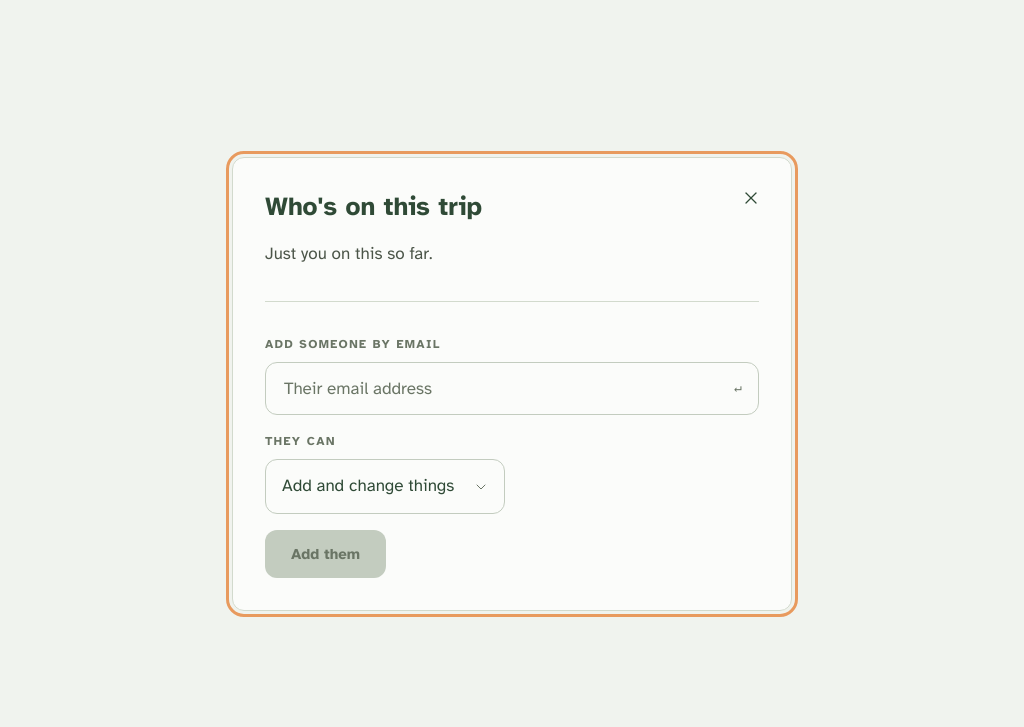
Test: SharePanel › says exactly the same thing whether the address matched someone or nobody
This screenshot has width=1024, height=727.
Expected: the text "Just you on this so far." is shown, [265,243,432,264]
Type "sarah@wend.app" into the field labelled "Add someone by email" at (502, 388), box [282,377,722,400]
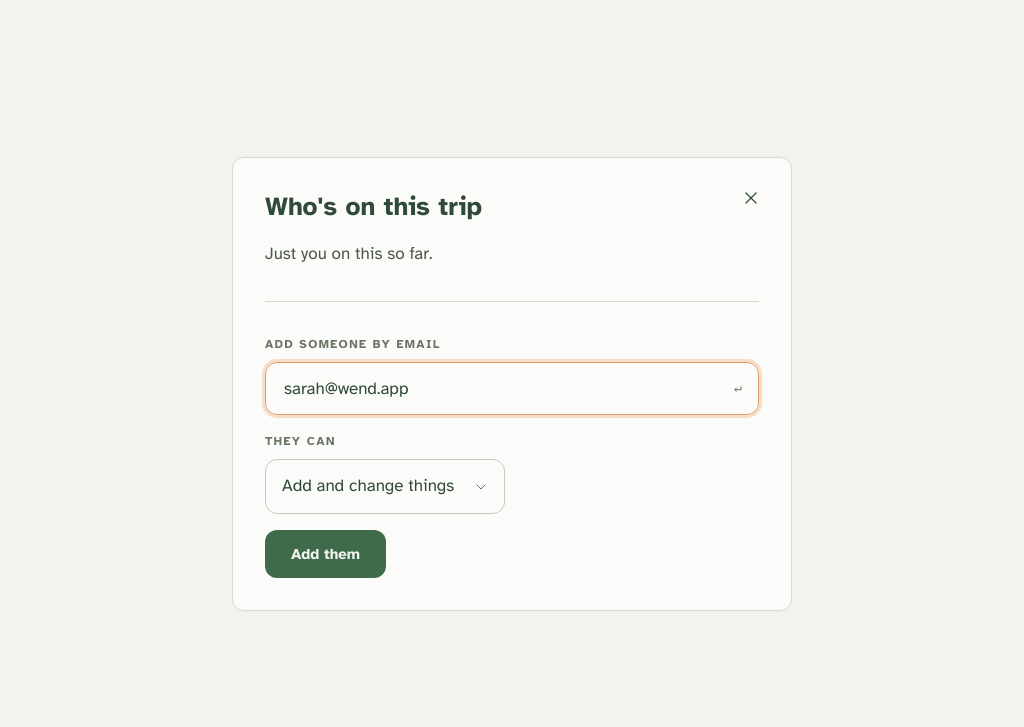
Click the button "Add them" at (326, 554), box [265,530,386,578]
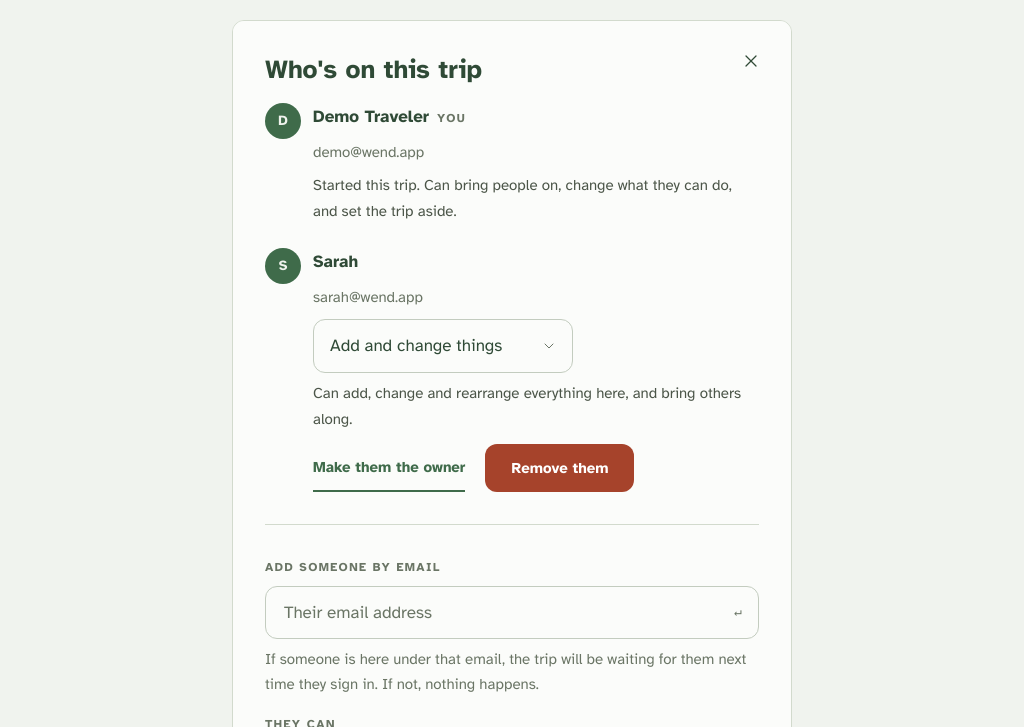
Type "nobody@nowhere.test" into the field labelled "Add someone by email" at (502, 612), box [282,601,722,624]
(page scrolled)
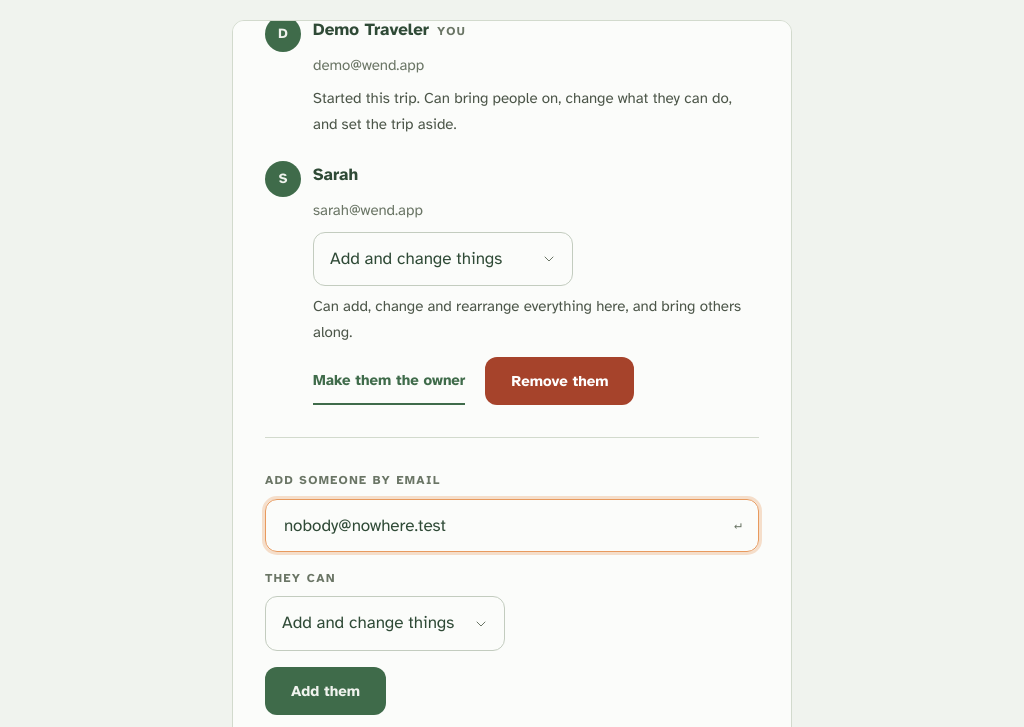
Click the button "Add them" at (326, 691), box [265,667,386,715]
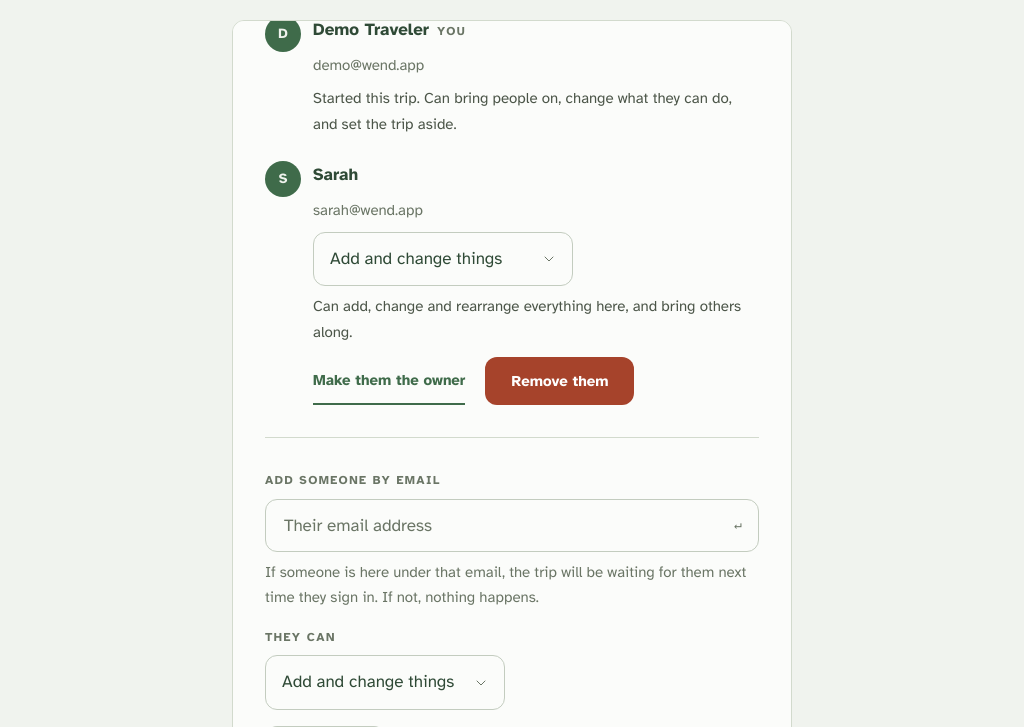
Expected: the text "If someone is here under that email, the trip will be waiting for them next time they sign in. If not, nothing happens." is shown, [265,563,746,606]
